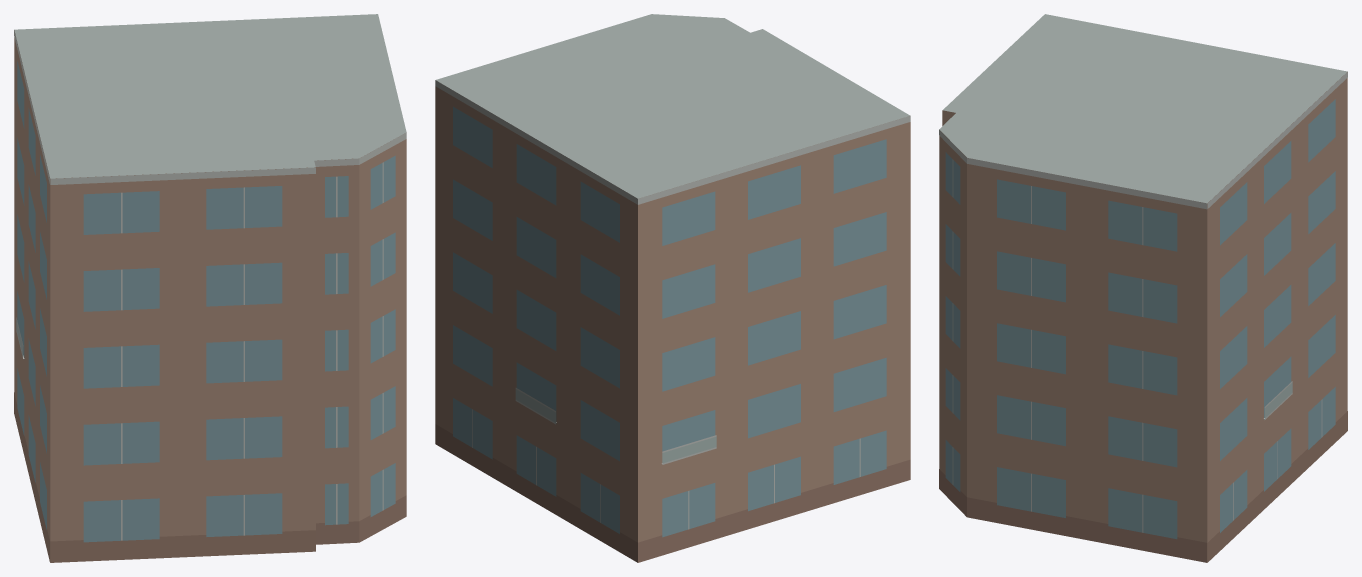
The model's file is survey-upis-33004233.glb.
The picture shows the model from 3 angles, left to right: view 1: azimuth 30°, elevation 25°; view 2: azimuth 150°, elevation 25°; view 3: azimuth 270°, elevation 25°; orthographic projection. The views are drawn at different scales.
Visible parts, largest first — view 1: survey-upis-33004233.tmp; view 2: survey-upis-33004233.tmp; view 3: survey-upis-33004233.tmp.
Boxes of the visible parts, box(x1,y1,x2,y2) form: survey-upis-33004233.tmp: box(14, 14, 406, 562); survey-upis-33004233.tmp: box(435, 14, 910, 562); survey-upis-33004233.tmp: box(939, 14, 1347, 562).
Size of the model in its own units: 16.39 by 14.5 by 14.94.
